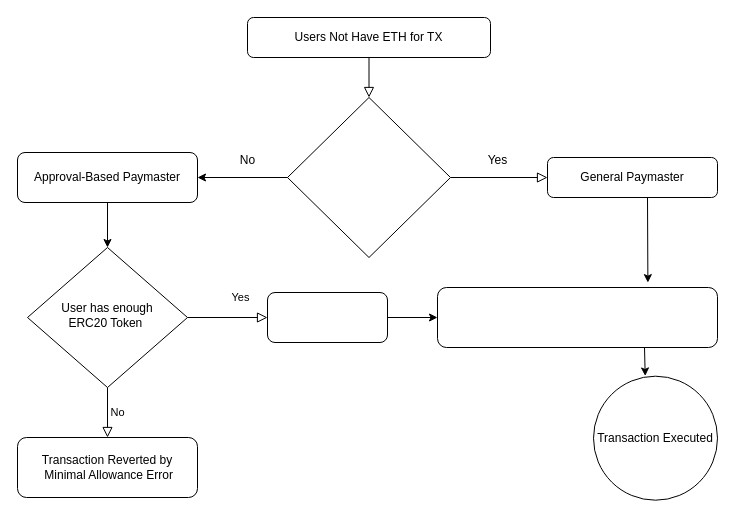
This 735x518 diagram has some shape labels left out. The shapes that lost their labels are listed below. From the top down, each one's centre as x and y in pixels, then its label:
At (368,177): "Would you sponsor for their transaction".
At (327,317): "ERC20 Token Will sent to paymaster".
At (577,317): "Paymaster Will Pay For Transaction Fee In ETH".
